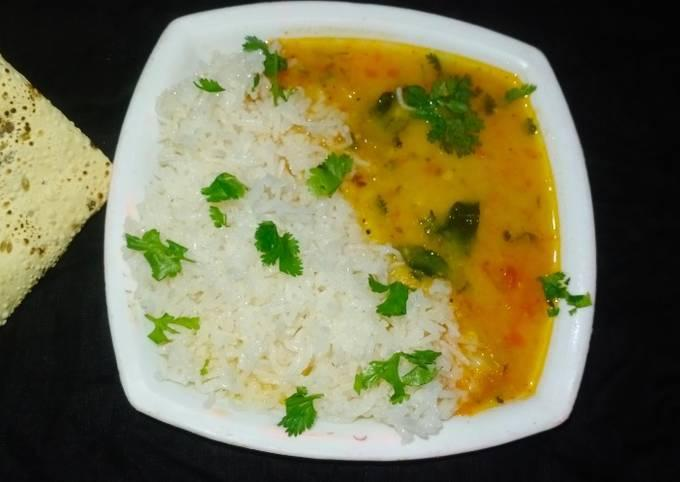dal: (271, 37, 560, 414)
rice: (121, 48, 460, 439)
